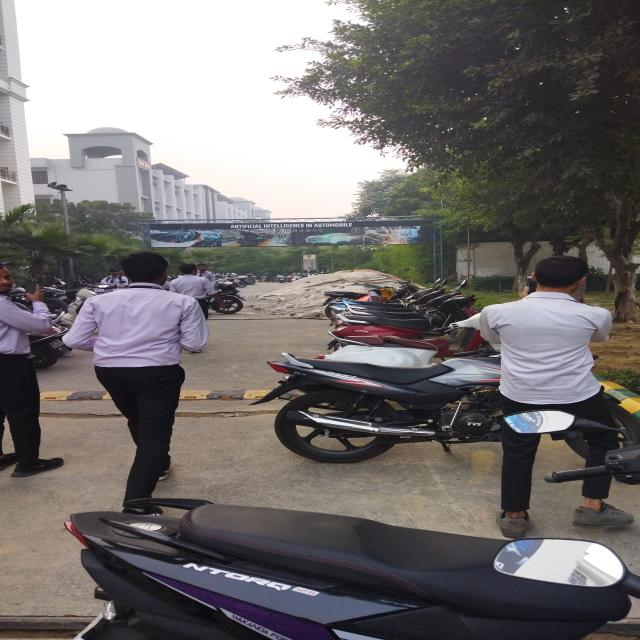unsafe: (482, 255, 640, 538), (68, 251, 210, 514), (0, 260, 71, 479), (170, 262, 214, 356)
